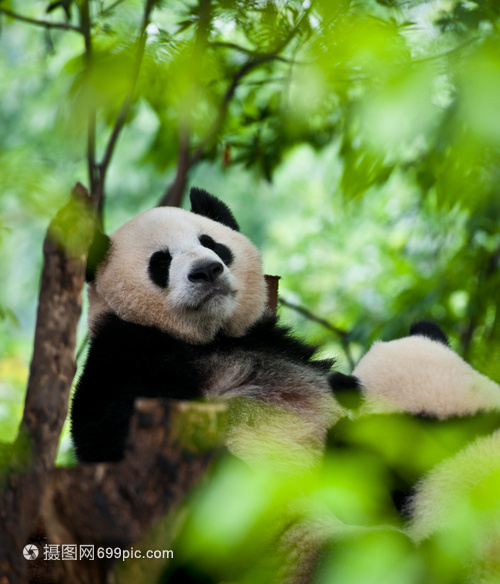panda: (57, 189, 388, 457)
